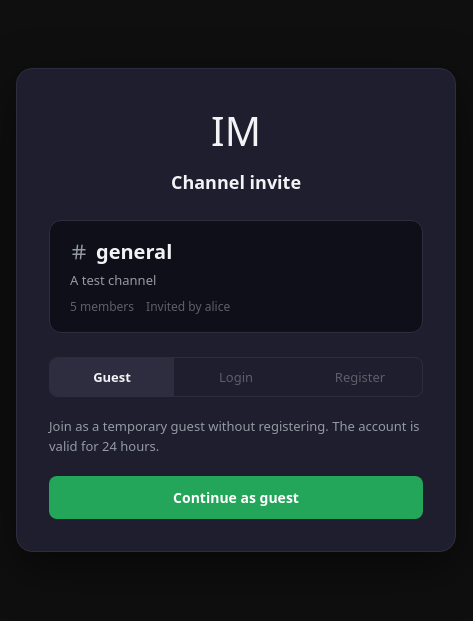
Test: InvitePage › clicking Login tab shows email and password fields
The image size is (473, 621).
Expected: the text "general" is shown, [96,237,172,267]
Click the button "Login" at [236, 377], box [174,358,298,396]
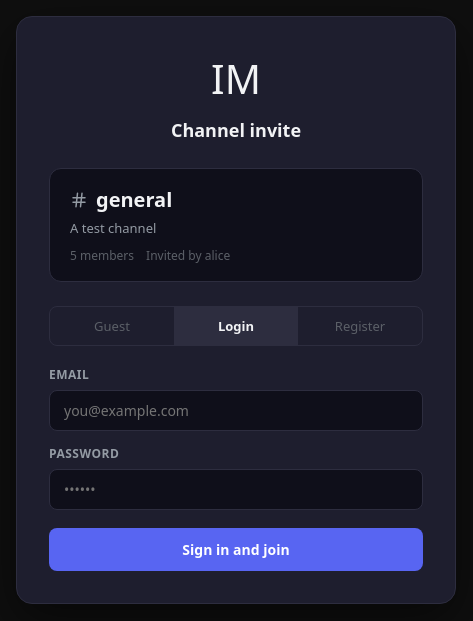
Now the field with placeholder "you@example.com" is shown, box [49,390,423,431]
Now the password field with placeholder "••••••" is shown, box [49,469,423,510]
